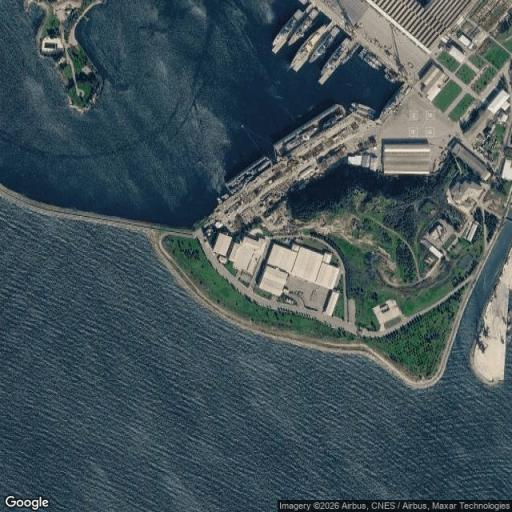ship: (270, 103, 348, 158), (224, 154, 275, 196), (319, 39, 354, 84), (292, 25, 326, 71), (272, 10, 303, 53), (288, 8, 318, 45), (310, 26, 339, 63), (360, 48, 382, 69), (339, 44, 360, 65), (352, 103, 375, 119), (385, 68, 399, 83)
